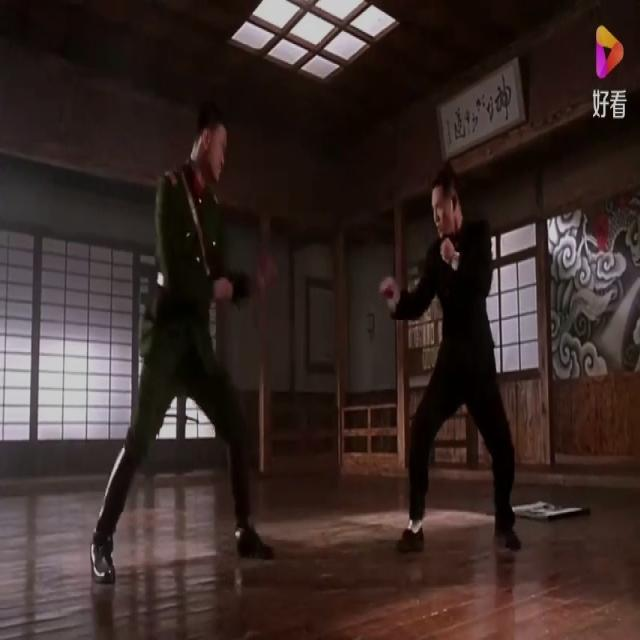fight: (94, 114, 540, 566)
